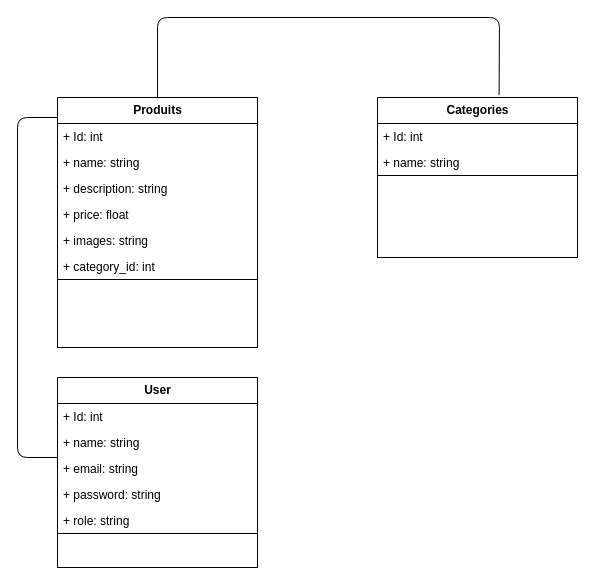
This 595x585 diagram has some shape labels left out. Here are the shapes that lost their labels. From the top down, the centre of each, then its label:
the point at 477,216: createCategory(): void updateCategory(): void deleteCategory(): void
the point at 157,313: createProduct(): void updateProduct(): void deleteProduct(): void
